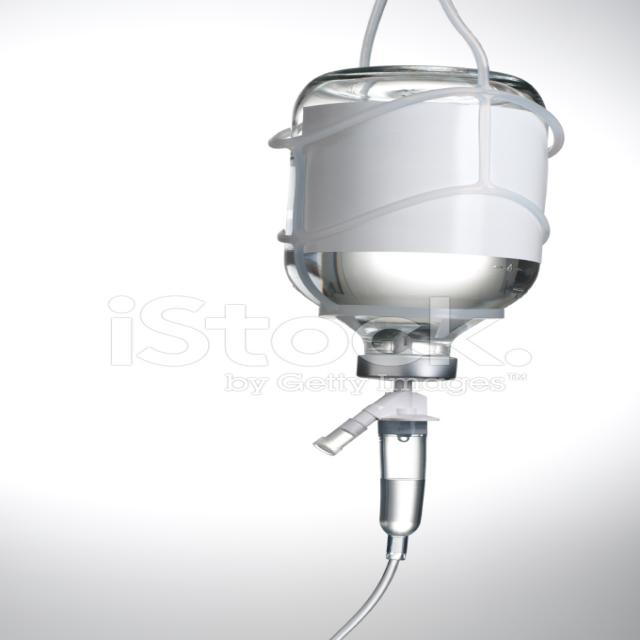B3: (258, 59, 583, 379)
